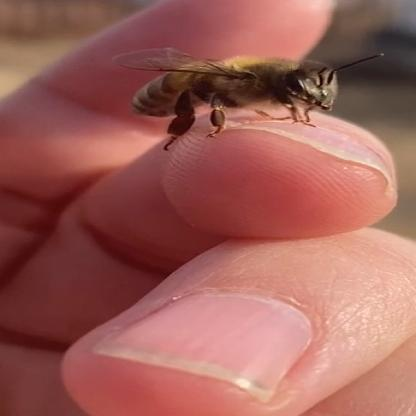bee: (82, 28, 394, 146), (126, 13, 342, 144)
